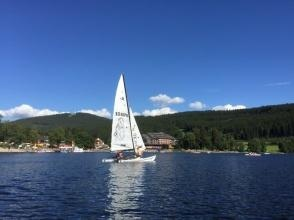fanchuan: (100, 74, 159, 164)
